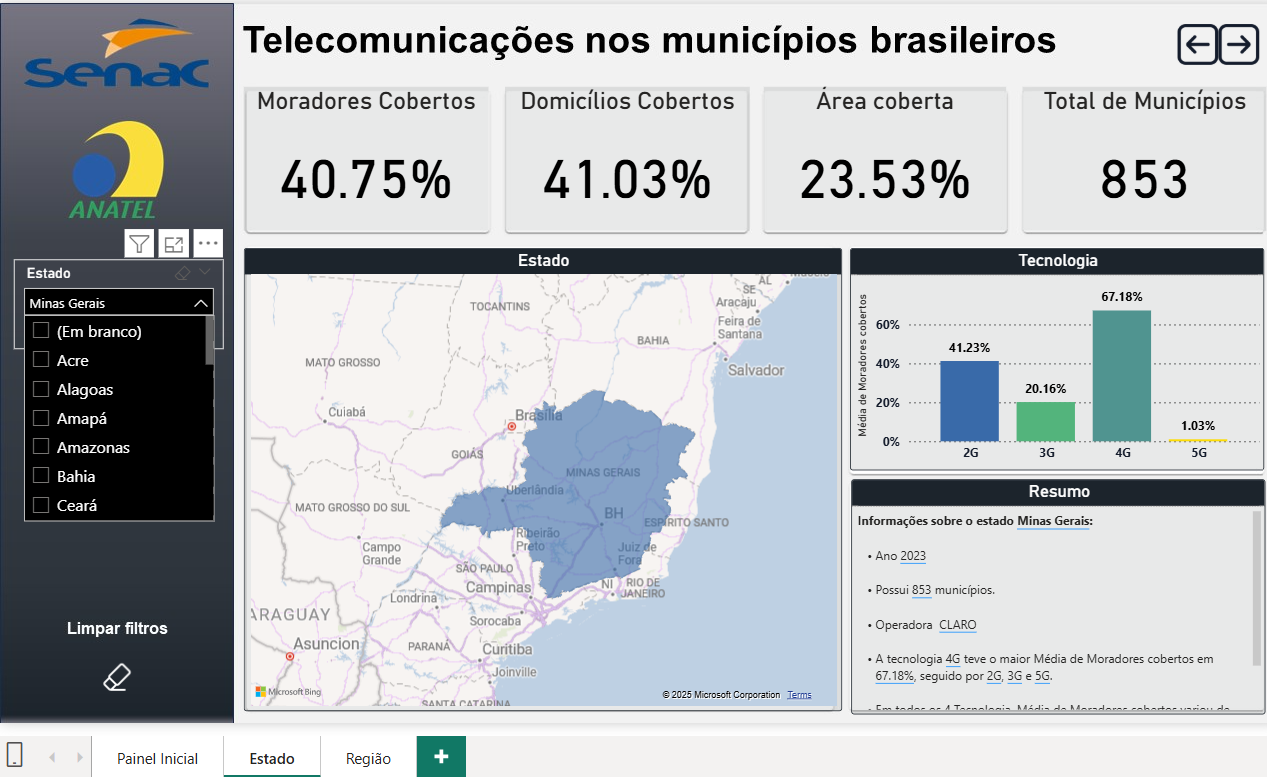

Layout of this report page (visuals, bound fields, positions):
{"tool":"powerbi","page":{"name":"Estado","canvas":[1280,720],"ordinal":1},"visuals":[{"type":"slicer","fields":{"Values":["Estado.Estado"]},"box":[13.8,256.2,210,90],"z":0},{"type":"slicer","fields":{"Values":["Operadora.Operadora"]},"box":[13.3,346.7,210,91.7],"z":1000},{"type":"card","title":"Moradores Cobertos","fields":{"Values":["Avg(Fato.% Moradores cobertos)"]},"box":[243.8,83.8,245,143.8],"z":2000},{"type":"filledMap","fields":{"Category":["Estado.Estado"]},"box":[243.3,245,598.3,463.3],"z":3000},{"type":"clusteredColumnChart","title":"Tecnologia","fields":{"Category":["Tecnologia.Tecnologia"],"Y":["Avg(Fato.Moradores cobertos)"]},"box":[850,245,415,222.5],"z":4000},{"type":"slicer","fields":{"Values":["Calendario.Date.Variation.Hierarquia de datas.Ano"]},"box":[13.8,430,210,92.5],"z":5000},{"type":"card","title":"Domicílios Cobertos","fields":{"Values":["Avg(Fato.Domicílios cobertos)"]},"box":[505,83.8,245,143.8],"z":6000},{"type":"image","box":[12.7,653.2,208.2,41.3],"z":7000},{"type":"image","box":[1211.1,15.9,55.6,50.9],"z":8000},{"type":"image","box":[1168.2,15.9,58.8,50.9],"z":9000},{"type":"card","title":"Área coberta","fields":{"Values":["Avg(Fato.% Área coberta)"]},"box":[763.8,83.8,242.5,143.8],"z":10000},{"type":"textbox","title":"Resumo","box":[851.7,476.7,415,235],"z":11000},{"type":"card","title":"Total de Municípios ","fields":{"Values":["Median(Fato.TotalMunicípiosEstado)"]},"box":[1022.5,83.8,245,143.8],"z":12000}]}

Visuals, with their boxes on the page's 1280x720 design canvas (x1, y1, x2, y2). These are canvas units, not pixel positions in the 1267x777 screenshot, which may show the page scaled, cropped or inside an application window:
slicer - Estado.Estado: region(14, 256, 224, 346)
slicer - Operadora.Operadora: region(13, 347, 223, 438)
"Moradores Cobertos" card: region(244, 84, 489, 228)
filledMap - Estado.Estado: region(243, 245, 842, 708)
"Tecnologia" clusteredColumnChart: region(850, 245, 1265, 468)
slicer - Calendario.Date.Variation.Hierarquia de datas.Ano: region(14, 430, 224, 522)
"Domicílios Cobertos" card: region(505, 84, 750, 228)
image: region(13, 653, 221, 694)
image: region(1211, 16, 1267, 67)
image: region(1168, 16, 1227, 67)
"Área coberta" card: region(764, 84, 1006, 228)
"Resumo" textbox: region(852, 477, 1267, 712)
"Total de Municípios " card: region(1022, 84, 1268, 228)
